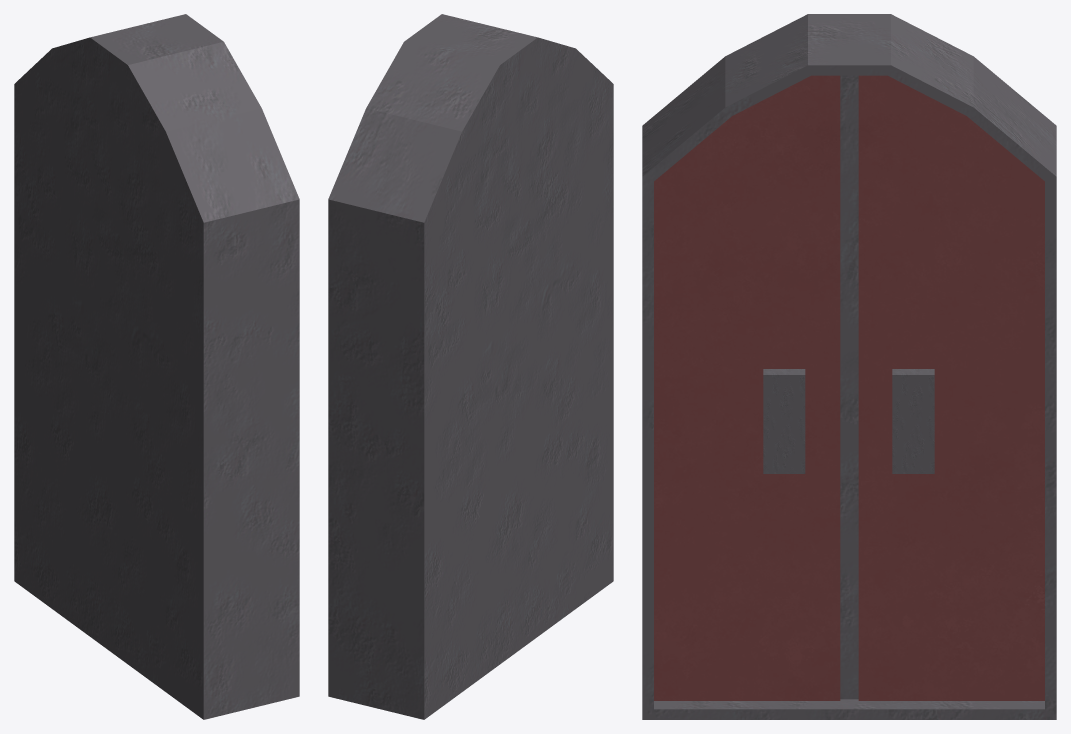
The model's file is door.fbx.
3 views of the same model, side by side, from view 1: azimuth 30°, elevation 25°; view 2: azimuth 150°, elevation 25°; view 3: azimuth 270°, elevation 25° (orthographic). The views are drawn at different scales.
Visible parts, largest first — view 1: Cube; view 2: Cube; view 3: Cube.
Part boxes in pixels (x1,y1,x2,y2): Cube: (14, 14, 299, 719); Cube: (328, 14, 613, 719); Cube: (642, 14, 1056, 719).
Size of the model in its own units: 221 by 757 by 1321.
